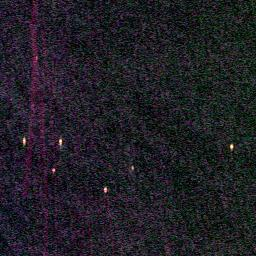Ship: (19, 135, 30, 147), (48, 165, 59, 175), (227, 142, 237, 152), (56, 136, 64, 146), (101, 186, 108, 194), (128, 164, 136, 171)
